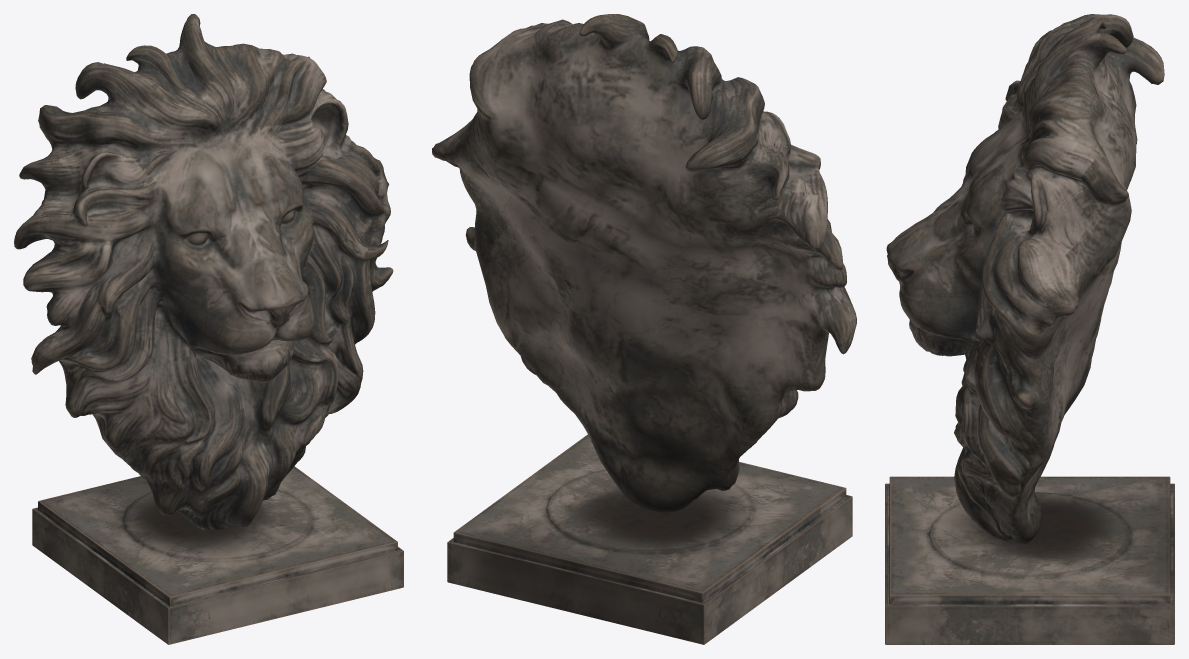
Rendered from lion_head.glb.
3 renders of one model, left to right at view 1: azimuth 30°, elevation 25°; view 2: azimuth 150°, elevation 25°; view 3: azimuth 270°, elevation 25°, orthographic. The views are drawn at different scales.
Visible parts, largest first — view 1: lion_head_mesh; view 2: lion_head_mesh; view 3: lion_head_mesh.
Boxes of the visible parts, <box> form: lion_head_mesh: <box>14,14,403,644</box>; lion_head_mesh: <box>432,14,856,644</box>; lion_head_mesh: <box>885,14,1174,644</box>.
Size of the model in its own units: 0.3208 by 0.4364 by 0.2066.
Materials: 1 (1 with a texture image).
